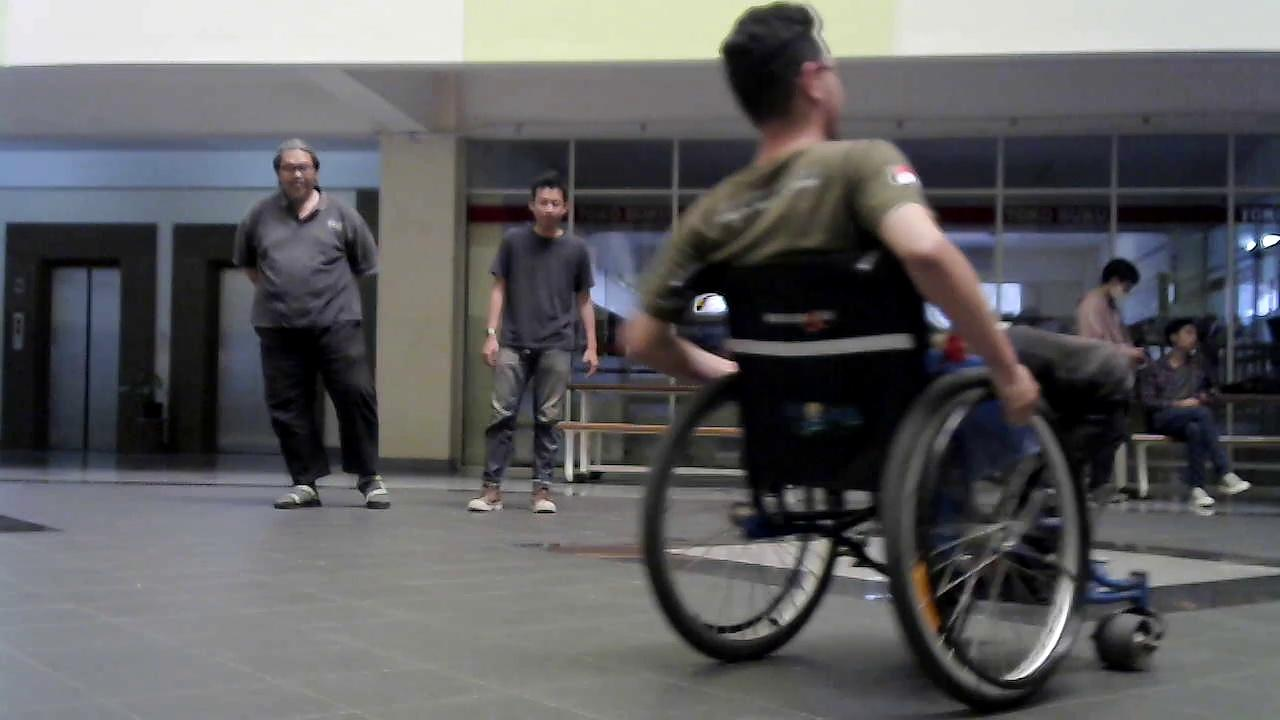person: (627, 4, 1046, 464), (233, 139, 391, 513), (466, 172, 600, 517), (1135, 318, 1249, 506), (1075, 257, 1147, 361)
wheelchair: (620, 244, 1168, 703)
